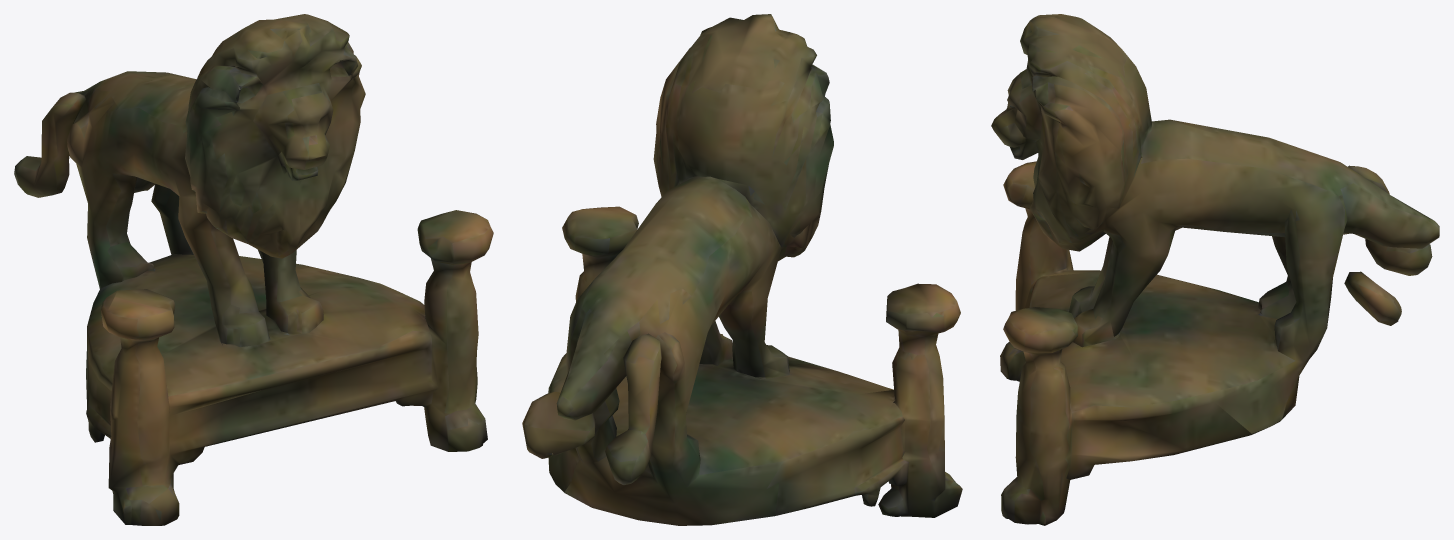
The model's file is rustic-bronze-throne-v001.glb.
3 renders of one model, left to right at view 1: azimuth 30°, elevation 25°; view 2: azimuth 150°, elevation 25°; view 3: azimuth 270°, elevation 25°, orthographic. The views are drawn at different scales.
Visible parts, largest first — view 1: rustic-bronze-throne; view 2: rustic-bronze-throne; view 3: rustic-bronze-throne.
Part boxes in pixels (left/top/right/bottom): rustic-bronze-throne: left=14, top=14, right=493, bottom=525; rustic-bronze-throne: left=522, top=14, right=962, bottom=525; rustic-bronze-throne: left=991, top=14, right=1439, bottom=525.
Size of the model in its own units: 1.46 by 1.63 by 1.57.
1 material, 1 textured.
